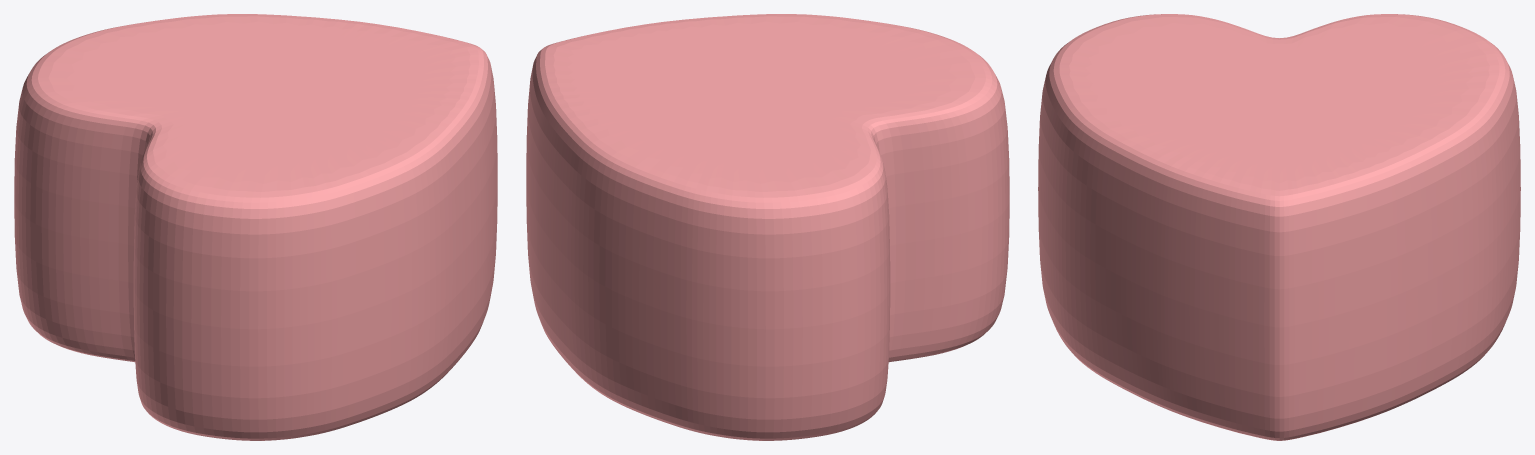
Rendered from CakeBigLayerPink.glb.
3 views of the same model, side by side, from view 1: azimuth 30°, elevation 25°; view 2: azimuth 150°, elevation 25°; view 3: azimuth 270°, elevation 25° (orthographic).
Parts seen in each view (by area): view 1: Cylinder.007; view 2: Cylinder.007; view 3: Cylinder.007.
Boxes of the visible parts, box(x1,y1,x2,y2) form: Cylinder.007: box(14, 14, 497, 440); Cylinder.007: box(526, 14, 1009, 440); Cylinder.007: box(1038, 14, 1520, 440).
Size of the model in its own units: 1.62 by 0.9364 by 1.66.
